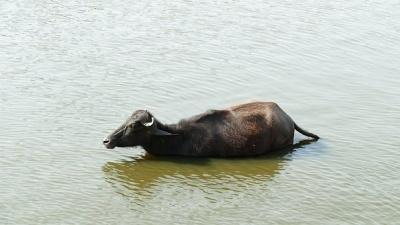buffalo: (102, 101, 320, 159)
